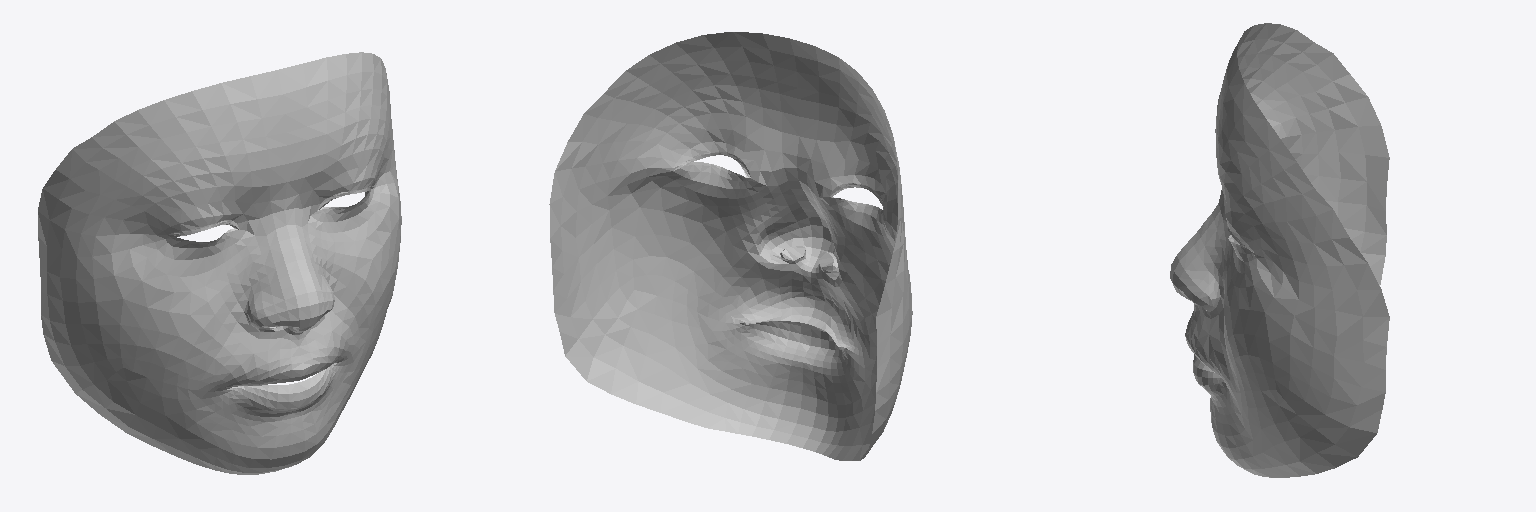
The model's file is cheekSquint_L.obj.
The picture shows the model from 3 angles: view 1: azimuth 30°, elevation 25°; view 2: azimuth 150°, elevation 25°; view 3: azimuth 270°, elevation 25°; orthographic projection.
Visible parts, largest first — view 1: default; view 2: default; view 3: default.
Boxes of the visible parts, x1=… form: default: x1=38, y1=52, x2=401, y2=474; default: x1=549, y1=32, x2=912, y2=460; default: x1=1170, y1=23, x2=1389, y2=477.
Size of the model in its own units: 0.1624 by 0.1851 by 0.0913.